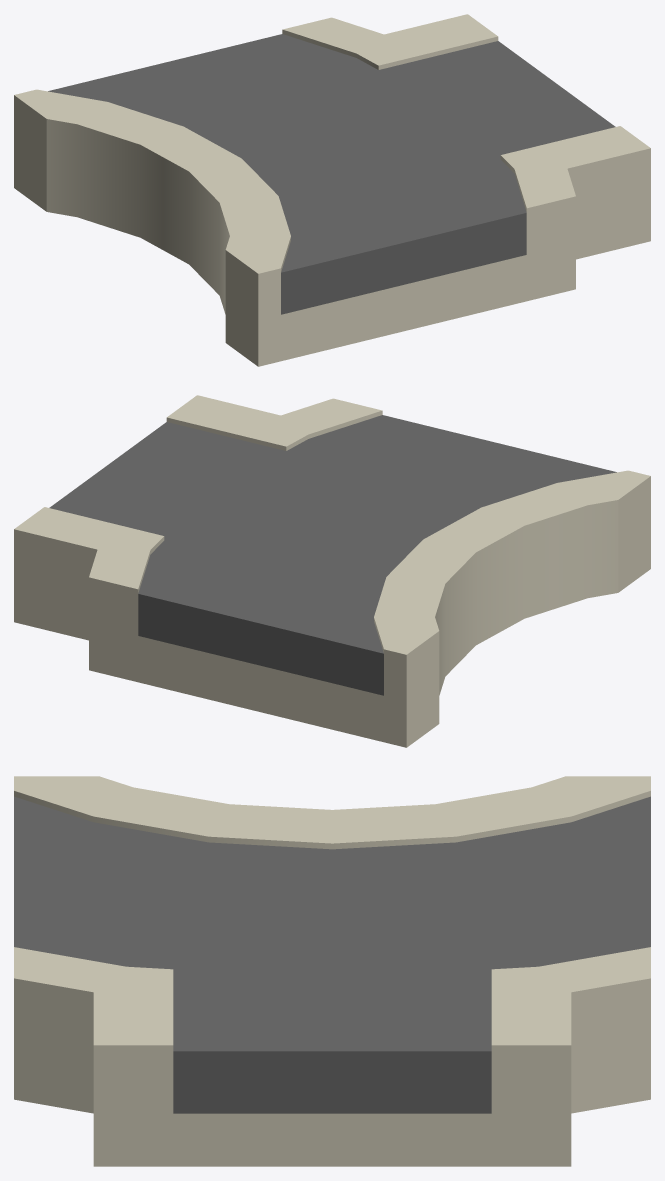
Rendered from tile117.fbx.
3 views of the same model, one above another, from view 1: azimuth 30°, elevation 25°; view 2: azimuth 150°, elevation 25°; view 3: azimuth 270°, elevation 25° (orthographic). The views are drawn at different scales.
Visible parts, largest first — view 1: tile117; view 2: tile117; view 3: tile117.
Boxes of the visible parts, box(x1,y1,x2,y2) form: tile117: box(14, 14, 650, 366); tile117: box(14, 395, 650, 747); tile117: box(14, 776, 650, 1166).
Bounding box in the file's own units: 10 × 2.1 × 10.
